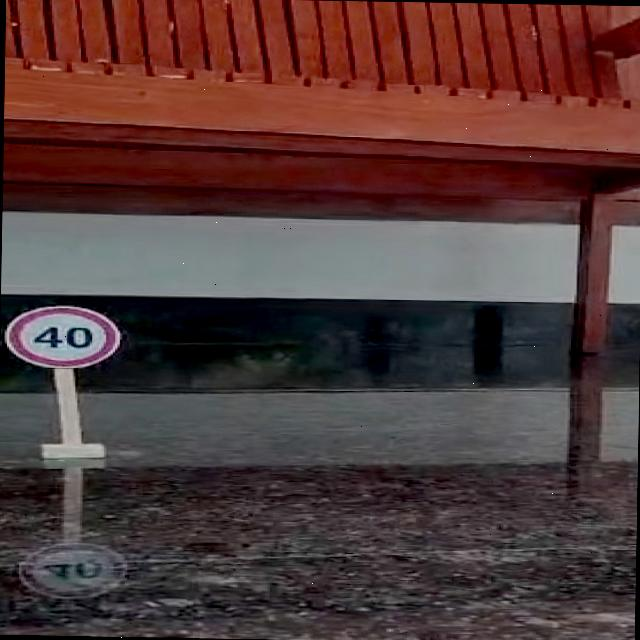Speed40: (0, 298, 127, 372)
